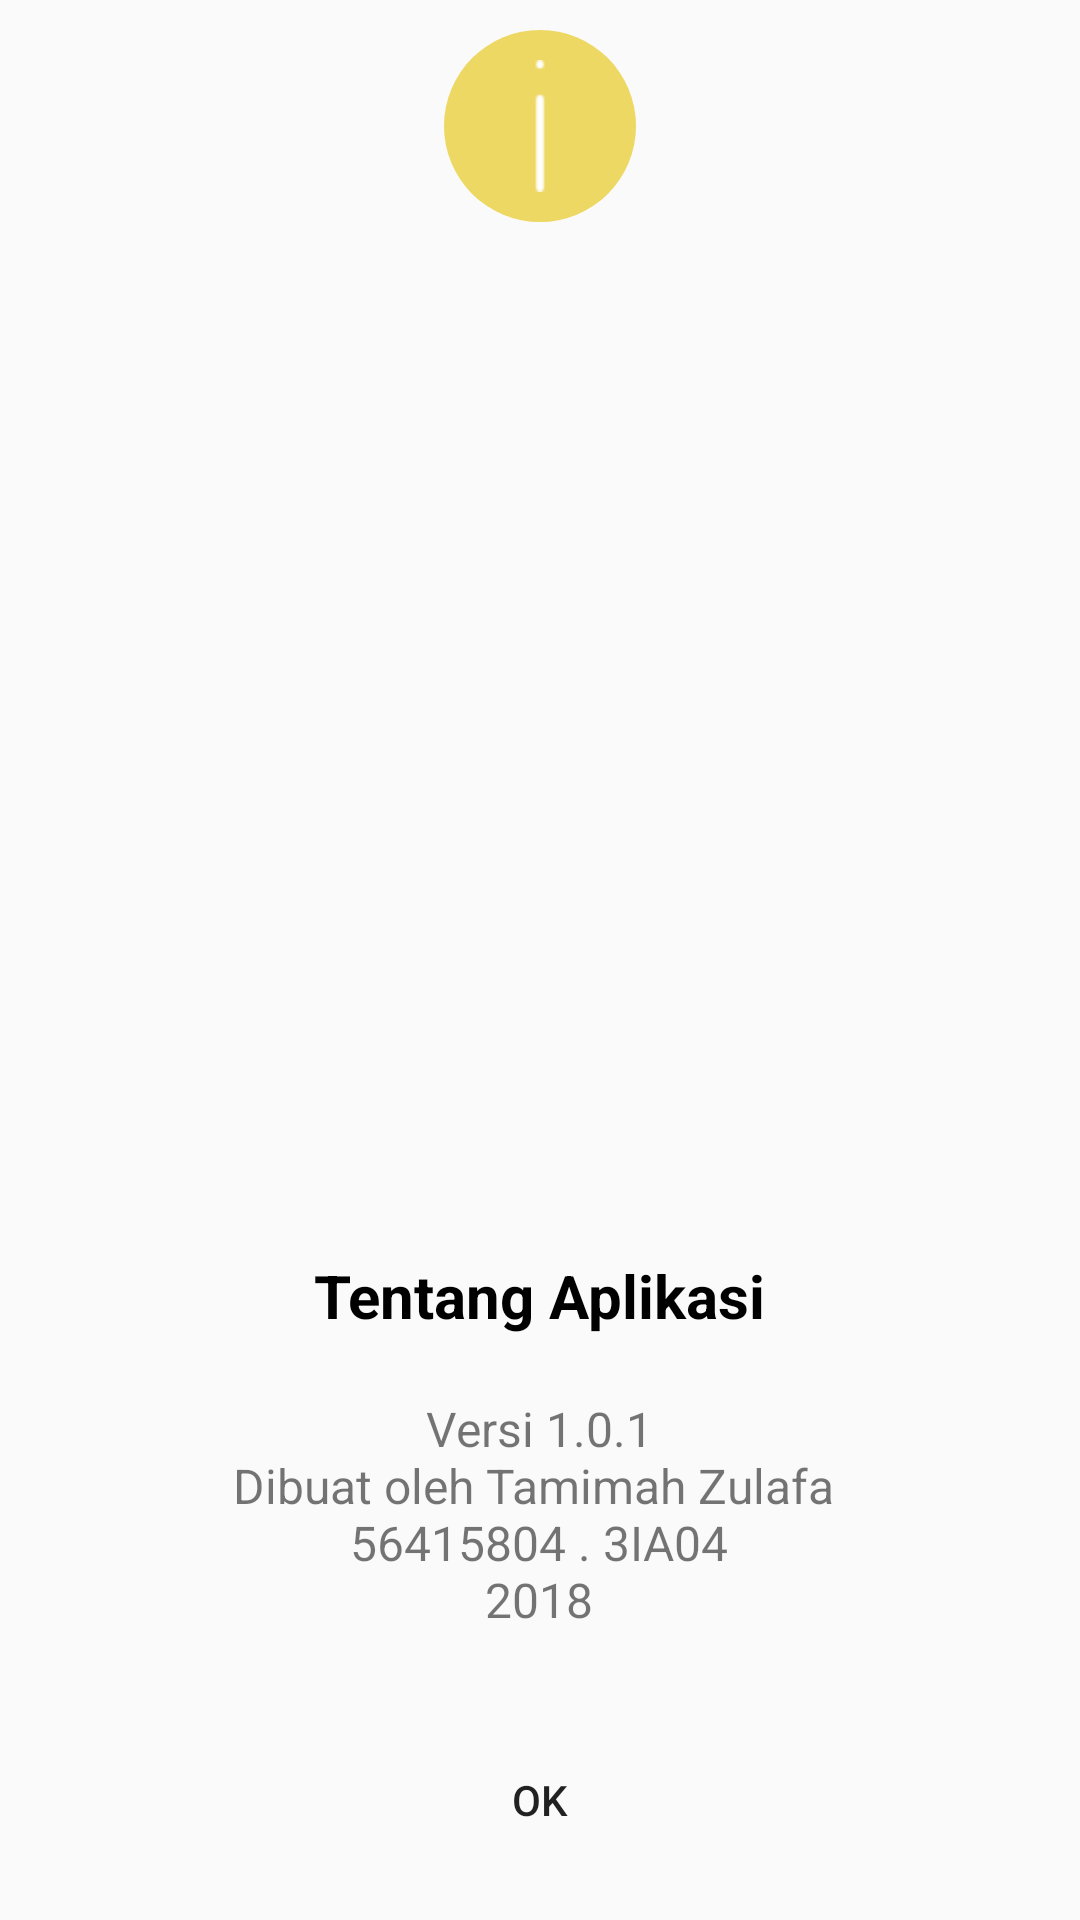

Icon bounding boxes for this 1080px x 1920px phone screenshot, format {"left": x1, "top": y1, "right": x2, "bottom": y2}:
info: {"left": 444, "top": 30, "right": 636, "bottom": 222}
